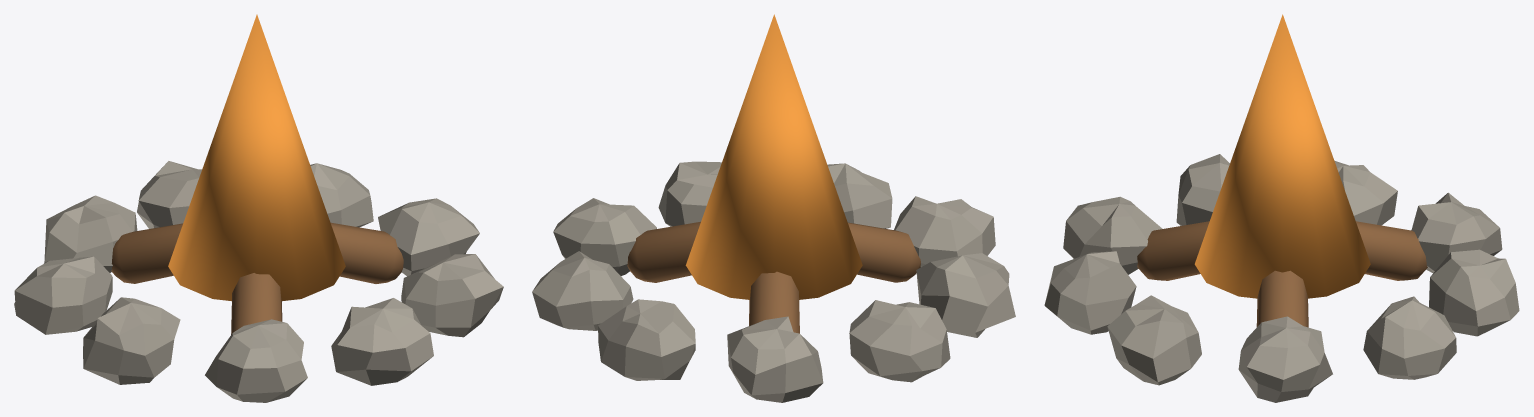
The model's file is campfire.glb.
3 views of the same model, side by side, from view 1: azimuth 30°, elevation 25°; view 2: azimuth 150°, elevation 25°; view 3: azimuth 270°, elevation 25° (orthographic).
Parts seen in each view (by area): view 1: fire, flame; view 2: fire, flame; view 3: fire, flame.
Part boxes in pixels (box(x1,y1,x2,y2)): fire: box(14, 161, 503, 402); flame: box(168, 14, 345, 301); fire: box(532, 161, 1015, 402); flame: box(685, 14, 862, 299); fire: box(1044, 154, 1519, 402); flame: box(1194, 14, 1370, 298).
Bounding box in the file's own units: 0.8284 × 0.5544 × 0.8086.
